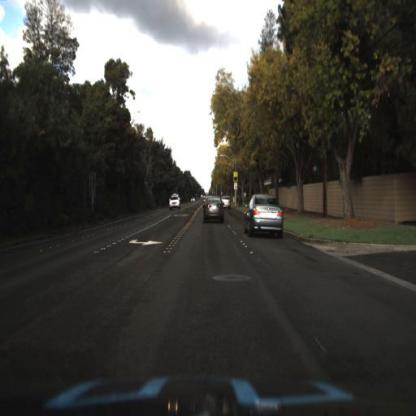car: (241, 191, 292, 239), (201, 195, 228, 228), (167, 192, 185, 212), (221, 193, 231, 210)
